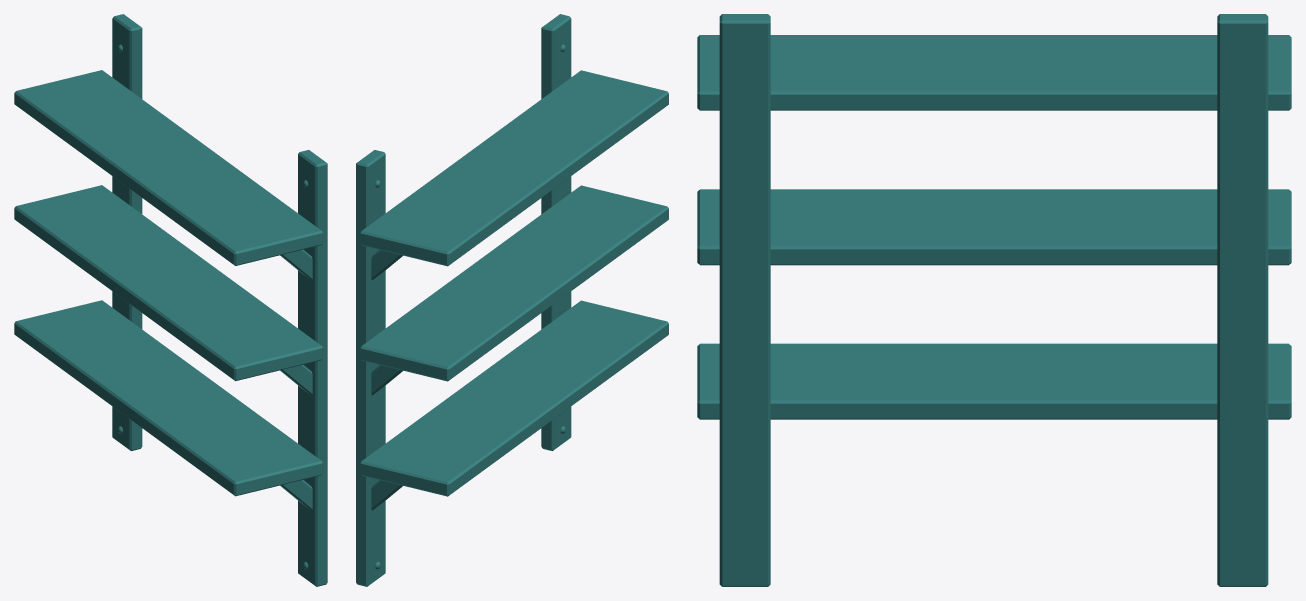
File: Shelf.fbx
The picture shows the model from 3 angles, left to right: view 1: azimuth 30°, elevation 25°; view 2: azimuth 150°, elevation 25°; view 3: azimuth 270°, elevation 25°; orthographic projection. The views are drawn at different scales.
Visible parts, largest first — view 1: HangingShelf001; view 2: HangingShelf001; view 3: HangingShelf001.
Part boxes in pixels (x1=…): HangingShelf001: x1=14, y1=14, x2=327, y2=586; HangingShelf001: x1=356, y1=14, x2=668, y2=586; HangingShelf001: x1=697, y1=14, x2=1291, y2=586.
Bounding box in the file's own units: 31.9 × 126 × 120.
